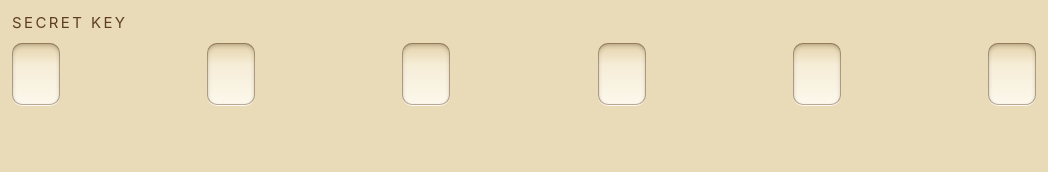
Test: KeyInput › auto-advances, uppercases and completes
Click the field named "Secret key character 1" at (36, 74), box [12,42,60,104]
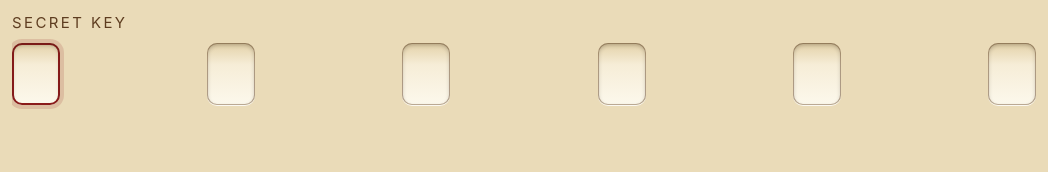
Type keys "k7pwh9"
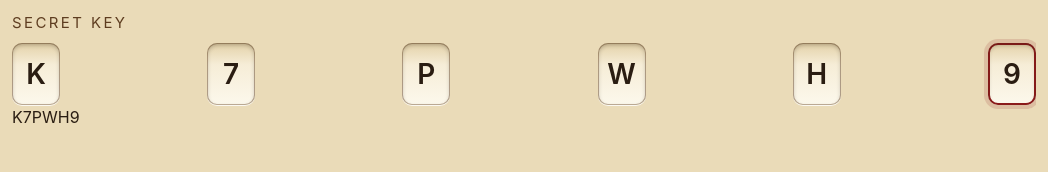
Expected: the text with test id "value" reads "K7PWH9", [12,106,80,126]
